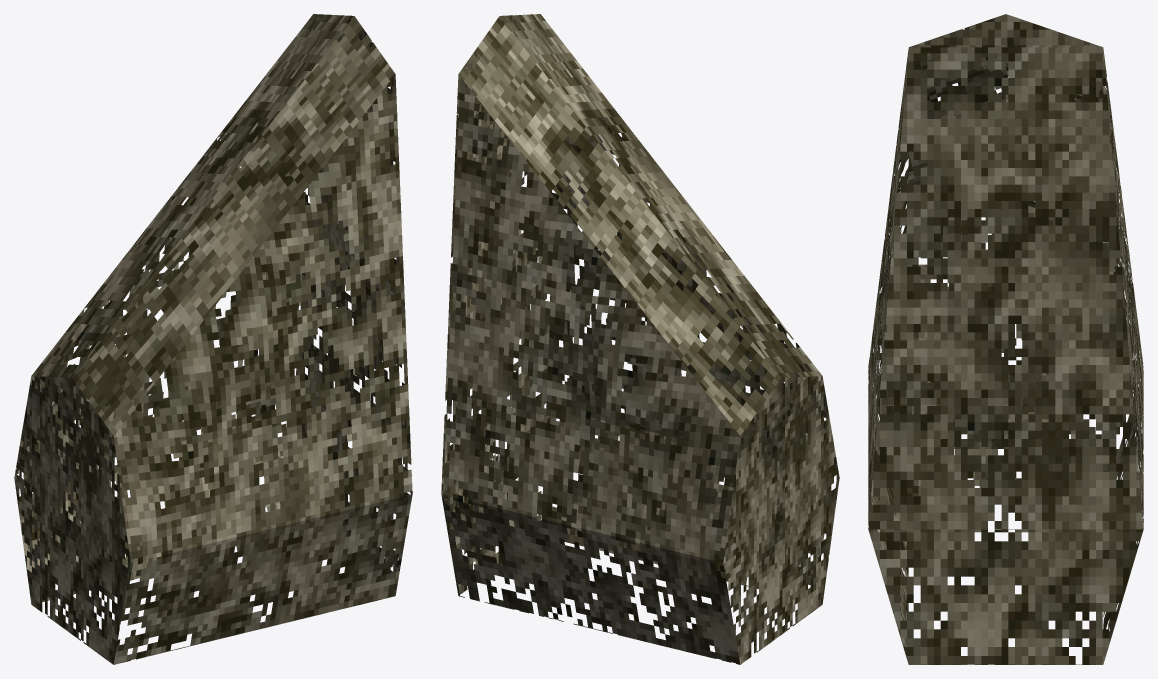
File: bush_connector_straight_half_dead.glb
The picture shows the model from 3 angles, left to right: view 1: azimuth 30°, elevation 25°; view 2: azimuth 150°, elevation 25°; view 3: azimuth 270°, elevation 25°; orthographic projection. The views are drawn at different scales.
Parts seen in each view (by area): view 1: bush_connector_straight_half_dead; view 2: bush_connector_straight_half_dead; view 3: bush_connector_straight_half_dead.
Boxes of the visible parts, left/top/right/bottom form: bush_connector_straight_half_dead: left=14, top=14, right=412, bottom=664; bush_connector_straight_half_dead: left=441, top=14, right=839, bottom=664; bush_connector_straight_half_dead: left=868, top=14, right=1143, bottom=664.
Size of the model in its own units: 1.01 by 1.88 by 0.7191.
Materials: 1 (1 with a texture image).
